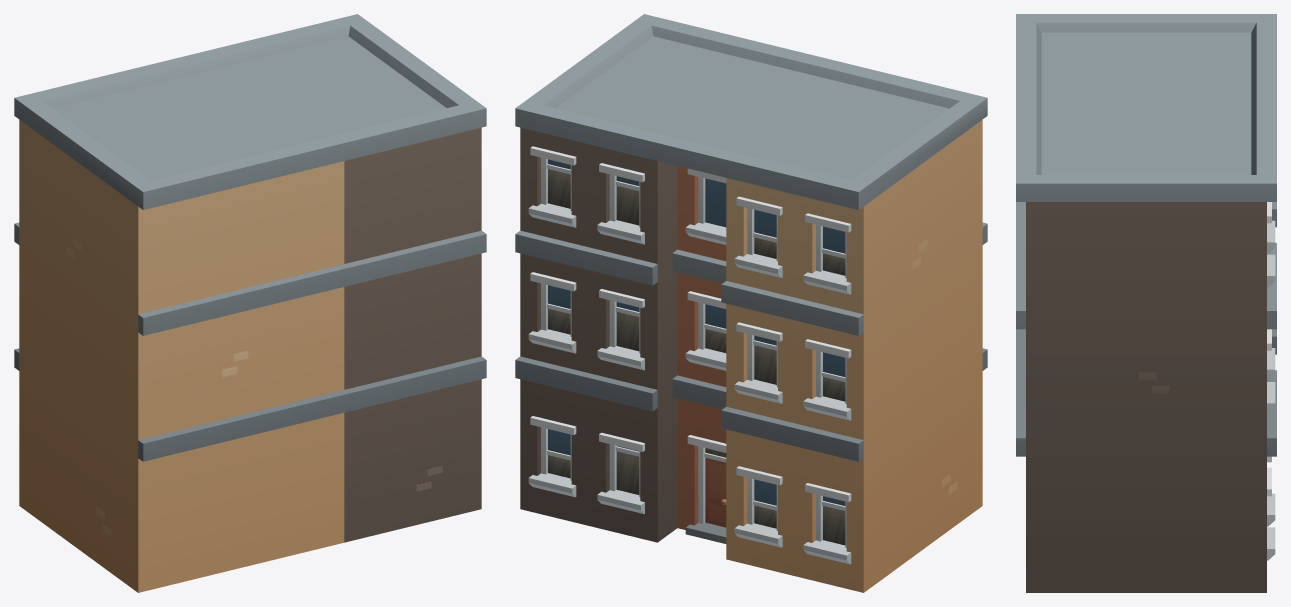
Rendered from EDIFICIO DOBLE.fbx.
3 renders of one model, left to right at view 1: azimuth 30°, elevation 25°; view 2: azimuth 150°, elevation 25°; view 3: azimuth 270°, elevation 25°, orthographic.
Parts seen in each view (by area): view 1: building_F_withoutBase; view 2: building_F_withoutBase; view 3: building_F_withoutBase.
Part boxes in pixels (x1,y1,x2,y2): building_F_withoutBase: (14,14,486,592); building_F_withoutBase: (515,14,987,592); building_F_withoutBase: (1016,14,1276,592).
Bounding box in the file's own units: 2067 × 1339 × 2318.
1 material, 1 textured.
